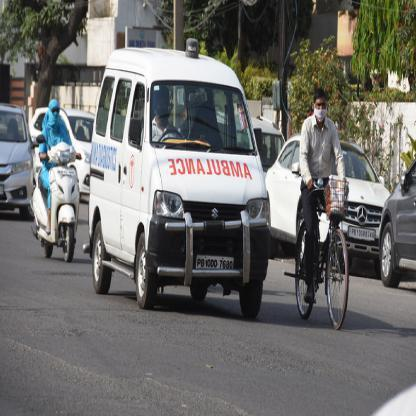Ambulance - v1 Ambulance last generate: (87, 34, 280, 332)
